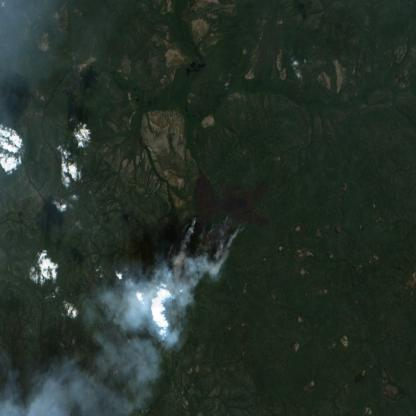fire: (170, 214, 250, 277)
